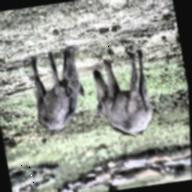boar: (9, 42, 94, 140), (85, 44, 163, 142)
